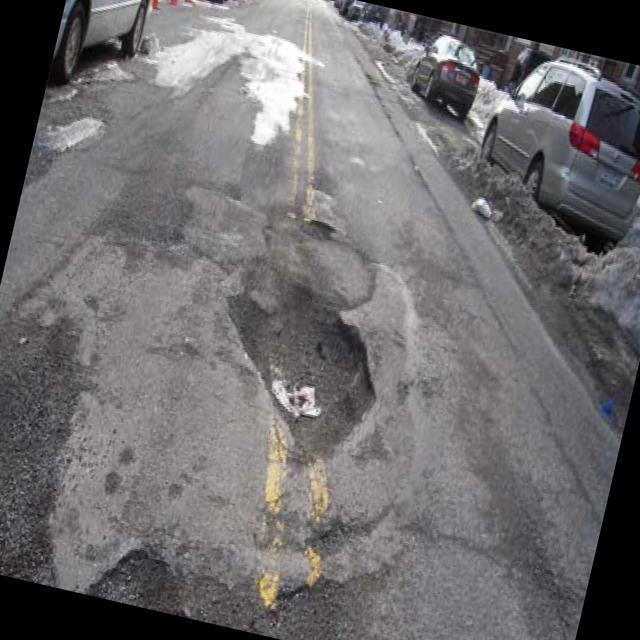Pothole: (145, 169, 473, 532), (133, 0, 332, 159)
